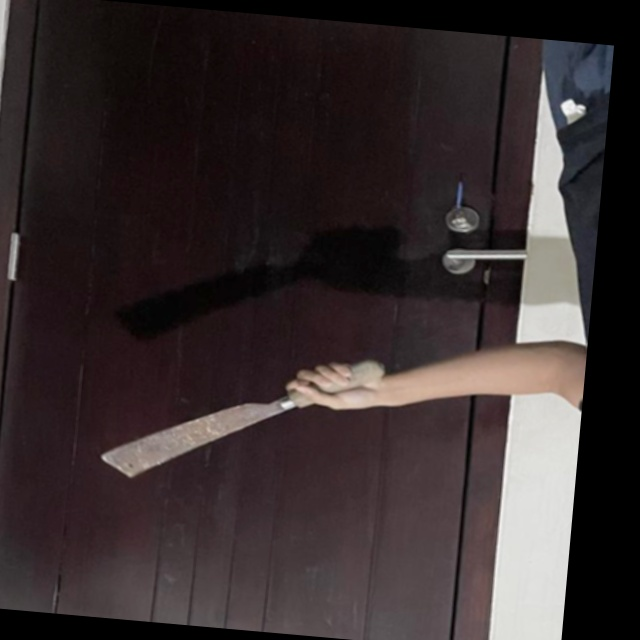Sharp-Object: (97, 334, 388, 502)
